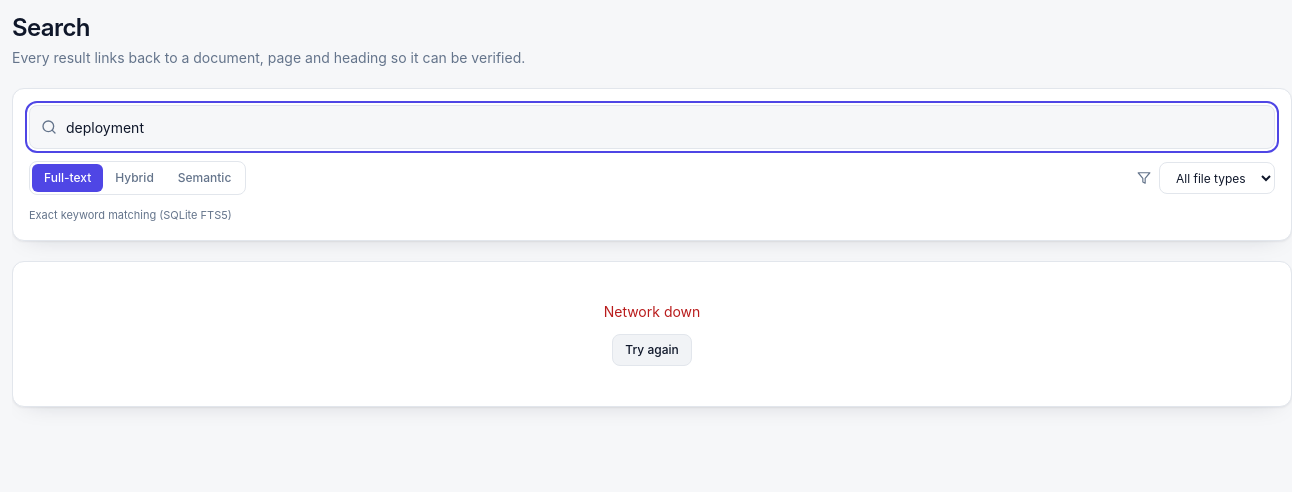
Test: Search page › shows an error state and retries
The width and height of the screenshot is (1292, 492).
Check: the message reads "Network down", box top-left (604, 302), bottom-right (700, 320)
Click the button "Try again" at {"x": 652, "y": 350}, box top-left (612, 334), bottom-right (692, 366)
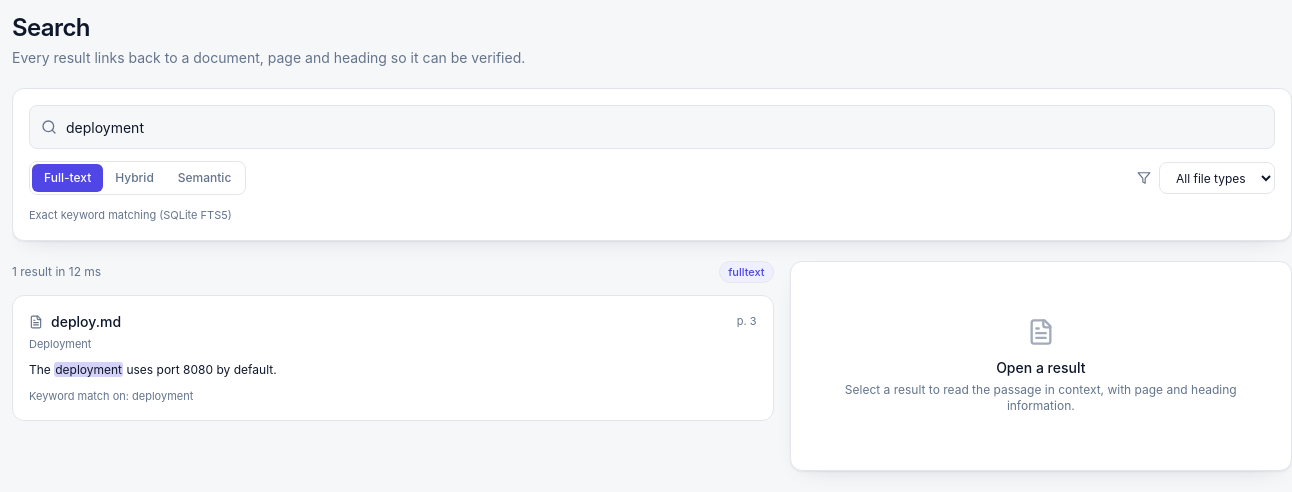
Check: the text "deploy.md" is shown, box top-left (51, 312), bottom-right (121, 332)
